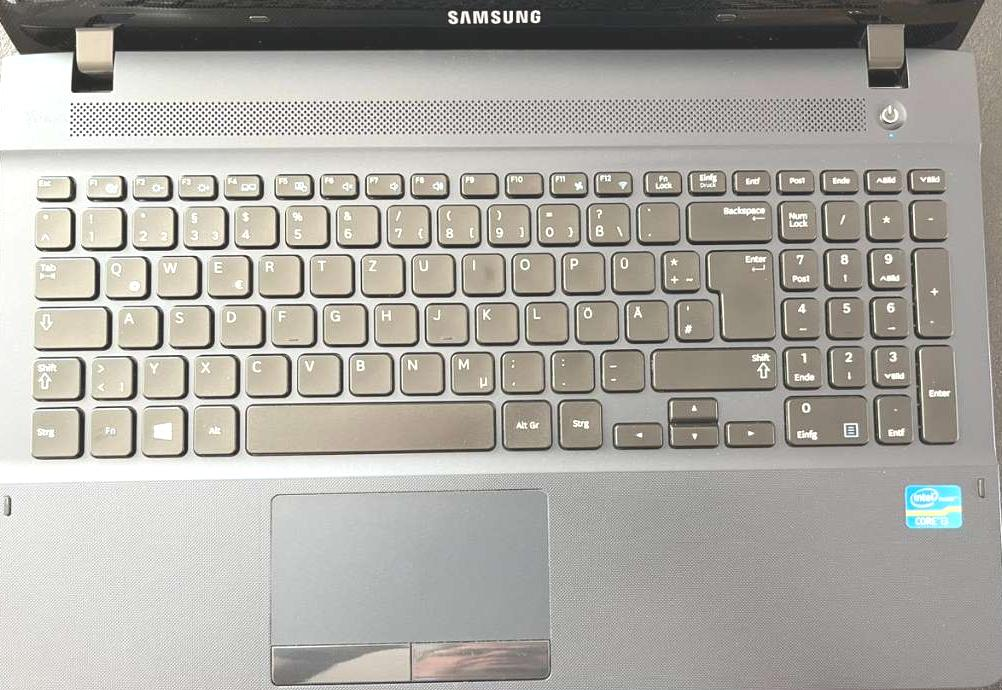0: (533, 200, 577, 243)
1: (77, 204, 121, 247)
2: (128, 203, 173, 246)
3: (179, 203, 224, 245)
4: (230, 202, 275, 245)
5: (280, 202, 326, 244)
6: (331, 201, 377, 244)
7: (383, 201, 428, 244)
8: (433, 201, 478, 244)
9: (483, 200, 528, 243)
a: (113, 302, 157, 346)
accent: (633, 199, 677, 241)
ae: (621, 297, 666, 340)
alt-left: (189, 402, 236, 454)
altgr-right: (498, 397, 551, 448)
b: (345, 349, 391, 393)
c: (242, 351, 287, 394)
caret: (31, 204, 69, 246)
comma: (496, 348, 542, 391)
d: (216, 301, 260, 345)
del: (684, 197, 772, 240)
e: (203, 251, 248, 295)
enter: (703, 245, 774, 339)
f: (267, 301, 312, 344)
g: (319, 300, 364, 344)
h: (370, 300, 415, 343)
hash: (672, 295, 711, 339)
i: (458, 249, 503, 292)
j: (421, 299, 465, 342)
k: (472, 299, 516, 342)
keyboard: (17, 140, 965, 471)
l: (522, 298, 565, 341)
less: (86, 352, 131, 397)
m: (446, 349, 492, 393)
minus: (596, 346, 642, 390)
n: (396, 349, 441, 393)
o: (508, 249, 552, 292)
oe: (571, 297, 616, 341)
p: (558, 249, 602, 291)
plus: (658, 247, 698, 289)
point: (546, 347, 592, 390)
q: (100, 253, 146, 296)
r: (254, 251, 300, 294)
s: (165, 302, 208, 345)
shift-left: (27, 354, 79, 398)
shift-lock: (30, 303, 106, 347)
shift-right: (647, 344, 776, 388)
space: (242, 398, 493, 452)
ss: (583, 199, 627, 242)
strg-left: (26, 404, 78, 456)
strg-right: (555, 396, 601, 448)
t: (306, 251, 350, 294)
tab: (30, 253, 93, 297)
u: (408, 250, 452, 293)
ue: (608, 248, 653, 291)
v: (293, 350, 339, 394)
w: (153, 252, 196, 295)
x: (190, 351, 235, 396)
y: (139, 352, 183, 397)
z: (357, 250, 401, 293)
